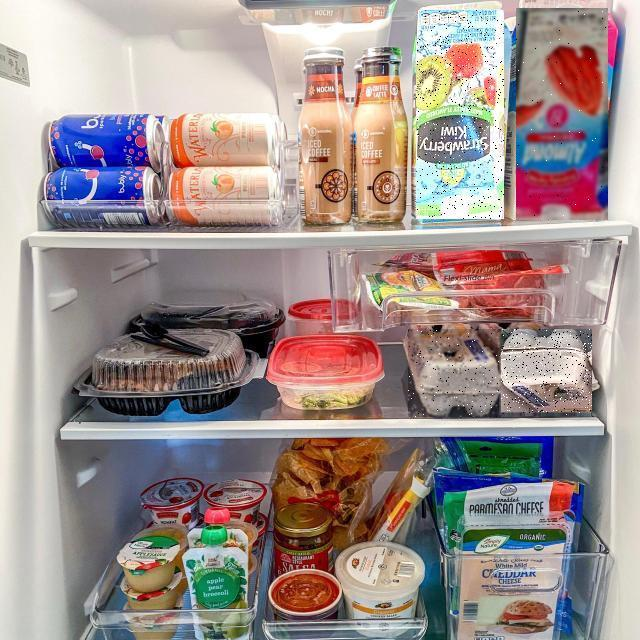Eggs: (408, 329, 501, 417), (501, 330, 593, 416)
Milk: (516, 8, 608, 220), (417, 10, 505, 219)
